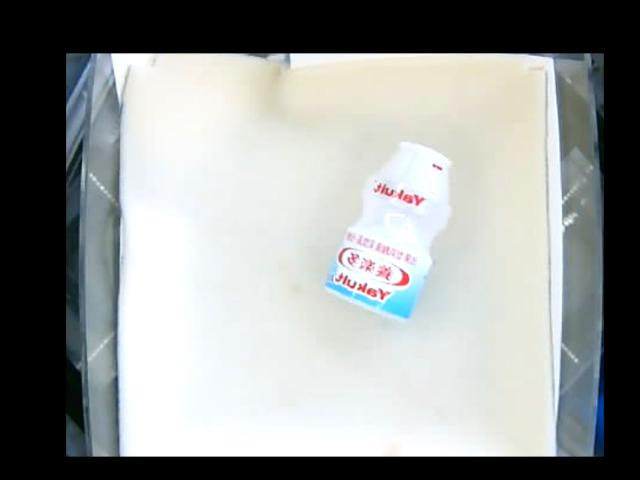Bottle: (324, 141, 456, 322)
